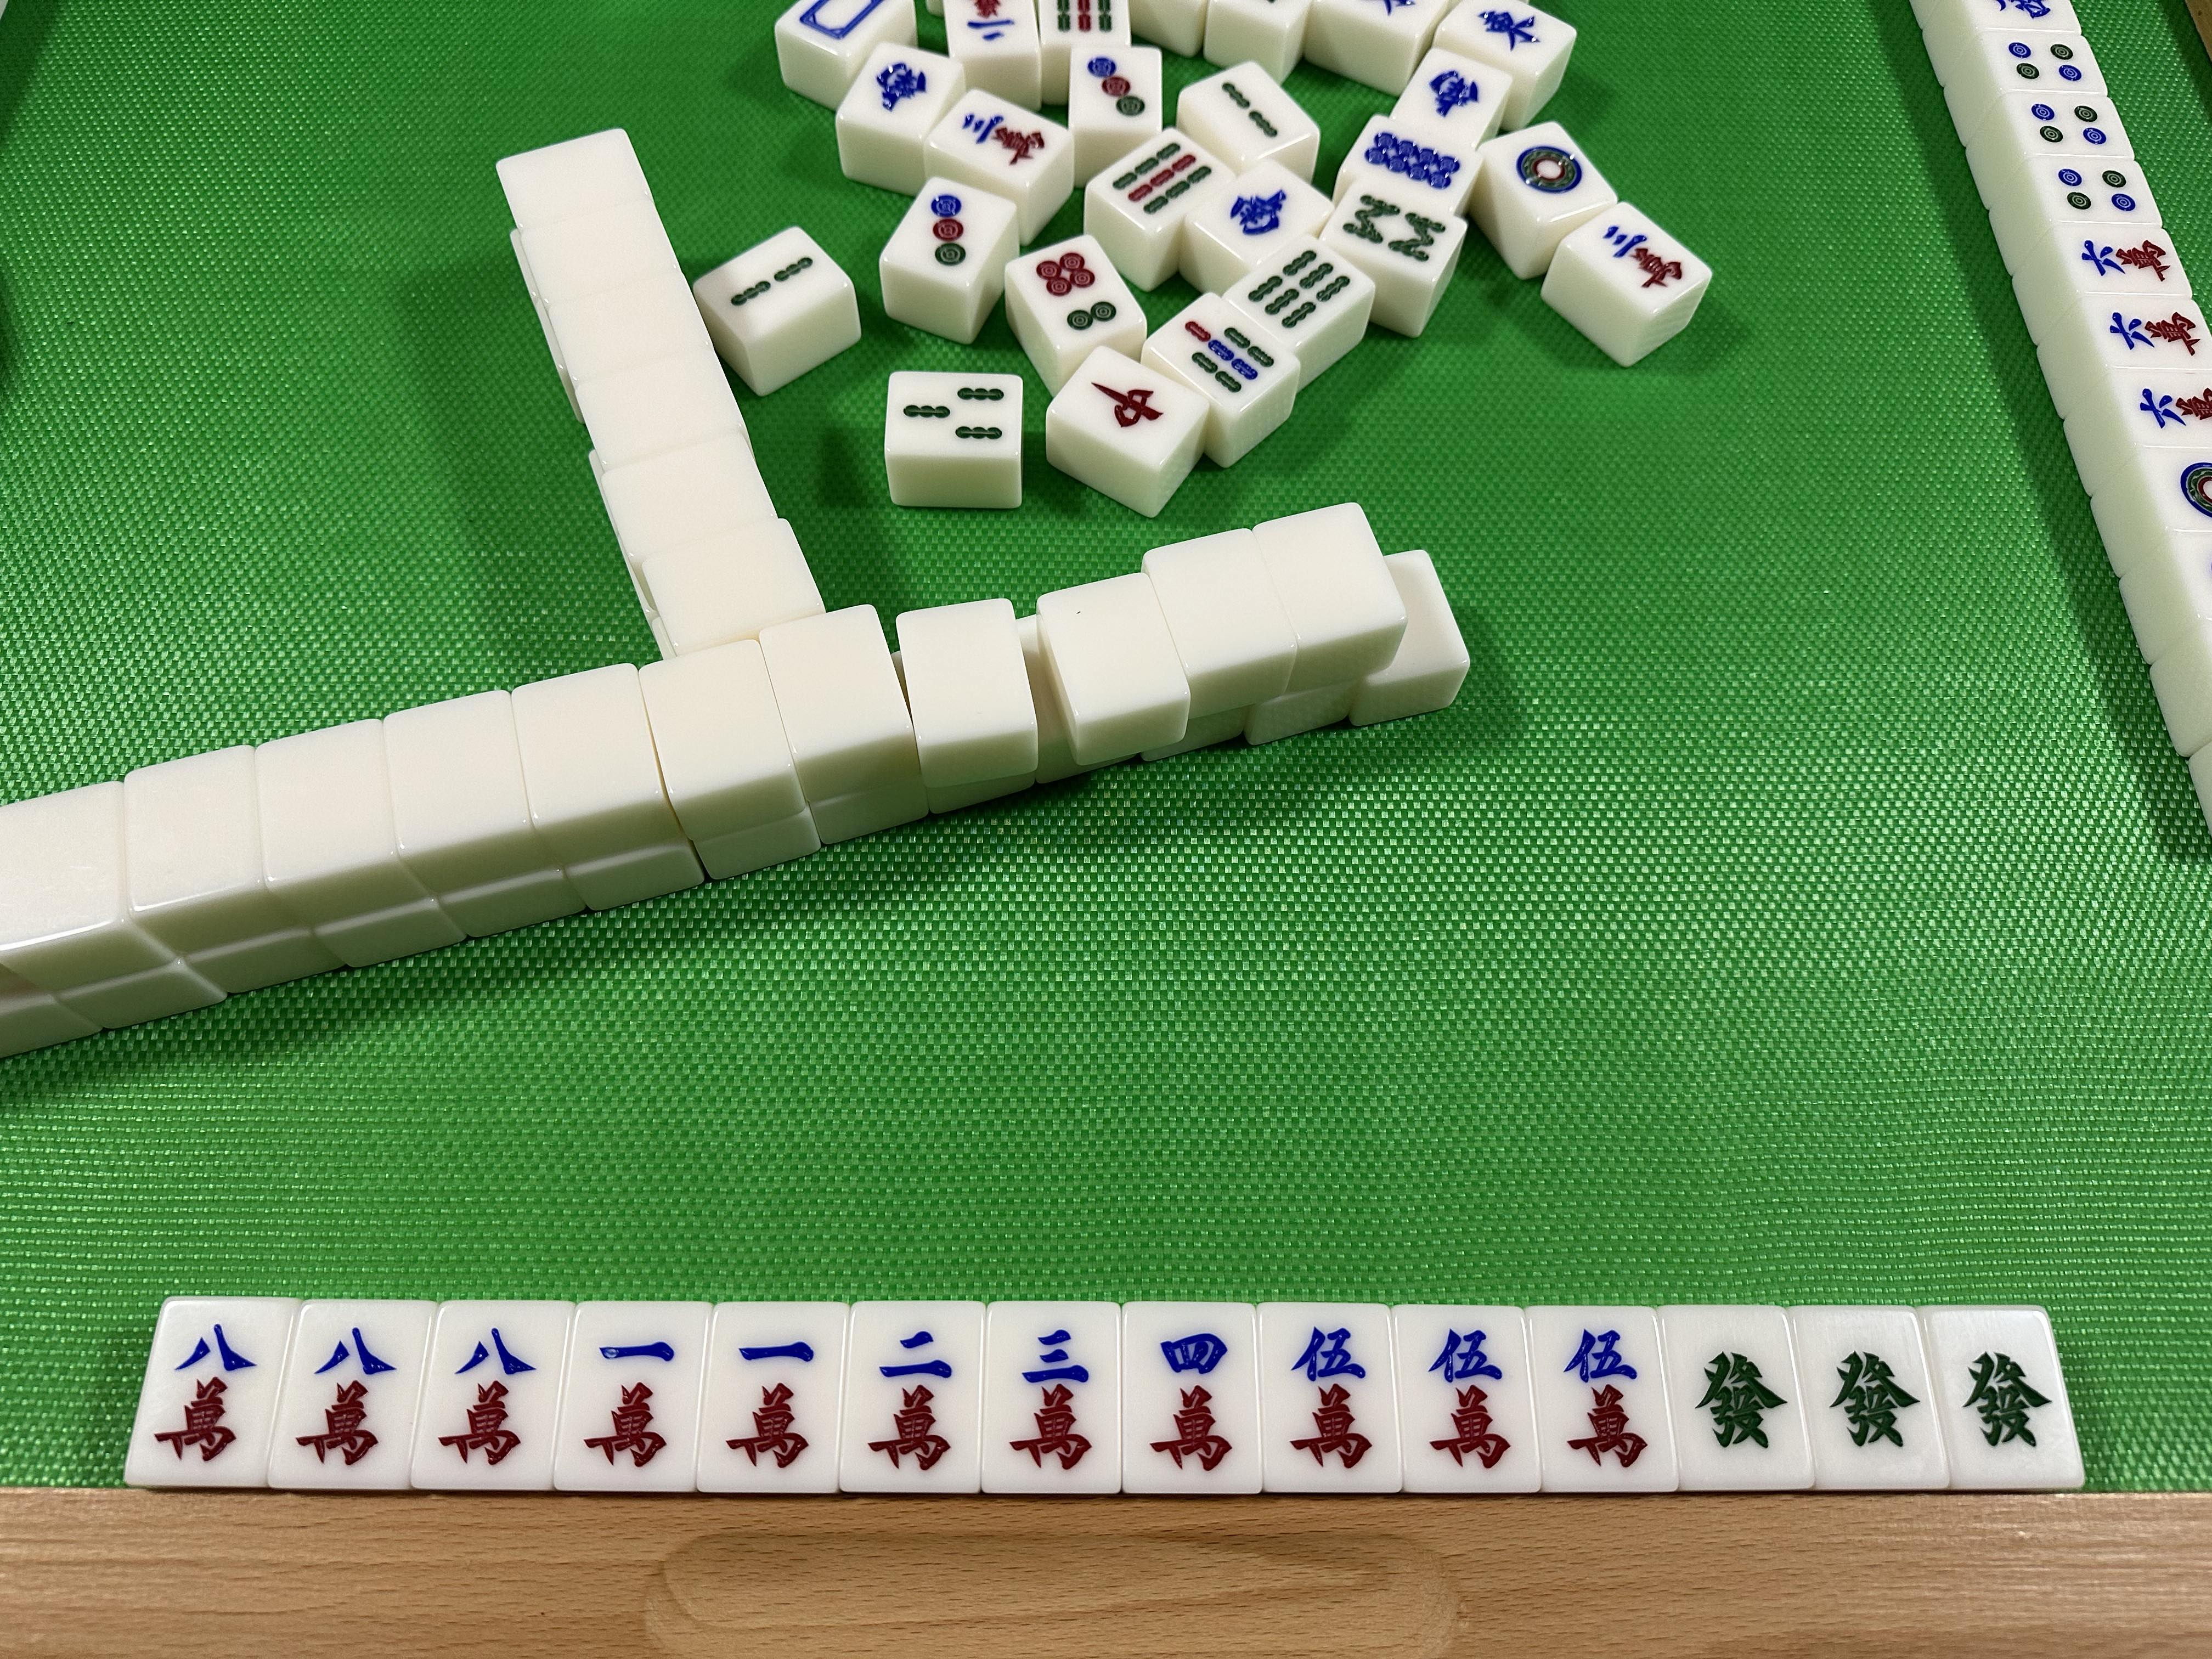character-eight: (434, 1309, 547, 1490), (155, 1300, 263, 1481), (294, 1305, 401, 1486)
character-five: (1263, 1307, 1390, 1493), (1534, 1310, 1667, 1486), (1395, 1314, 1519, 1486)
character-four: (1123, 1304, 1263, 1493)
character-one: (712, 1309, 836, 1495), (575, 1305, 691, 1492)
character-three: (988, 1302, 1122, 1492)
character-two: (852, 1307, 981, 1493)
honor-green_dragon: (1672, 1317, 1789, 1490), (1803, 1321, 1926, 1476), (1947, 1345, 2055, 1467)
